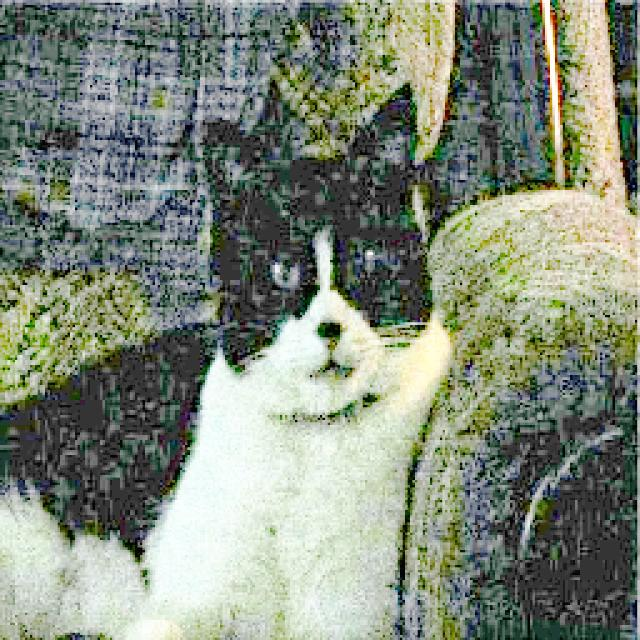cat: (0, 85, 450, 637)
